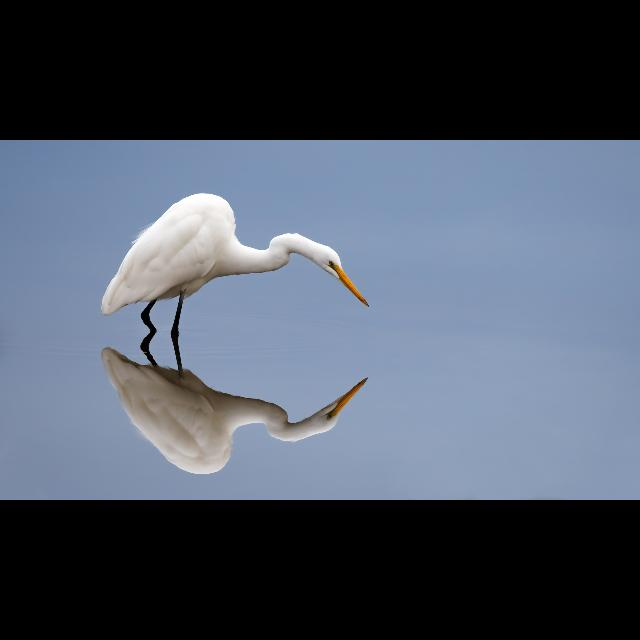egret: (100, 194, 370, 342)
